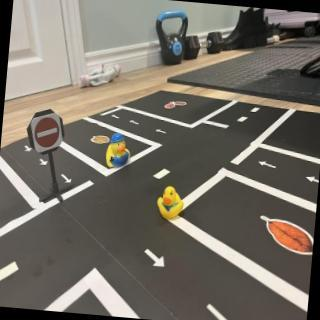duck_regular: (156, 184, 188, 222)
duck_specialty: (104, 131, 135, 172)
road_oneway: (203, 300, 242, 320), (144, 246, 170, 272), (259, 158, 279, 173), (304, 173, 320, 186), (60, 173, 74, 187), (154, 127, 170, 138), (128, 117, 142, 128), (23, 144, 34, 155), (40, 158, 50, 169), (110, 113, 123, 121)
sign_noentry: (29, 110, 68, 158)
